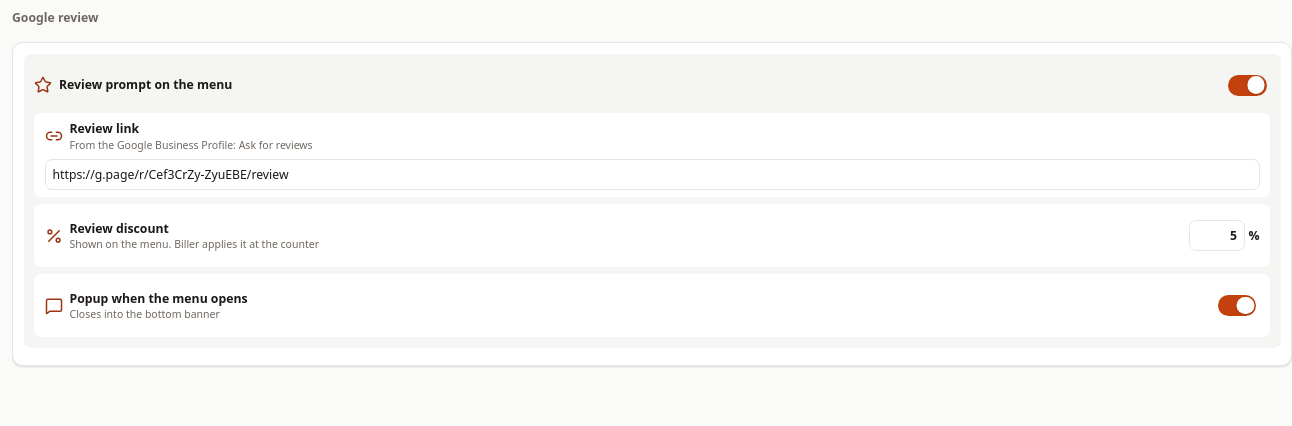
the Google review section › keeps only the banner when the popup is switched off
Click the switch with test id "review-ask-popup-switch". click: {"x": 1237, "y": 306}
box: [1214,286,1260,325]
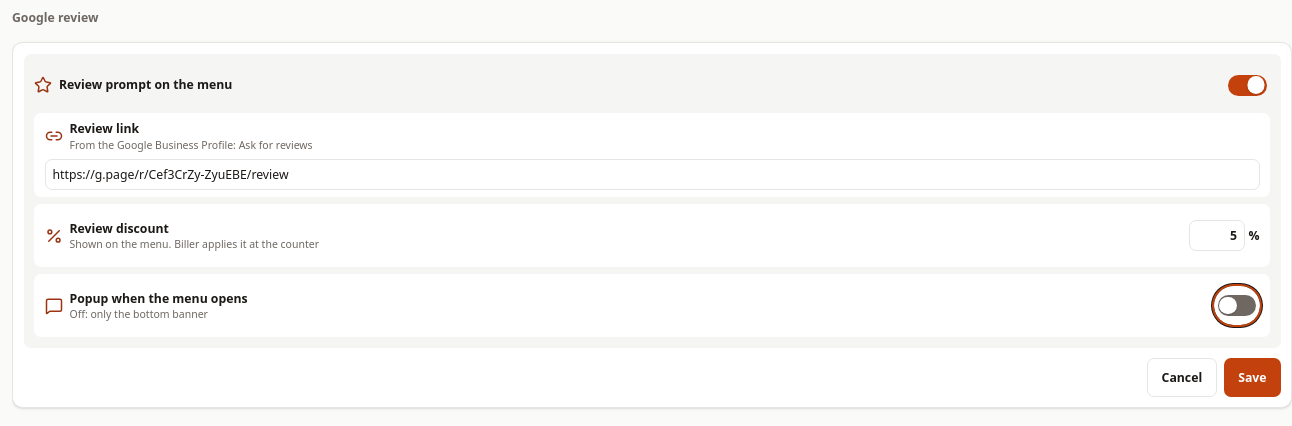
Result: the text "Off: only the bottom banner" is shown at [70,307,208,321]
Click the button "Save". click: {"x": 1252, "y": 377}
box: [1224,358,1280,396]
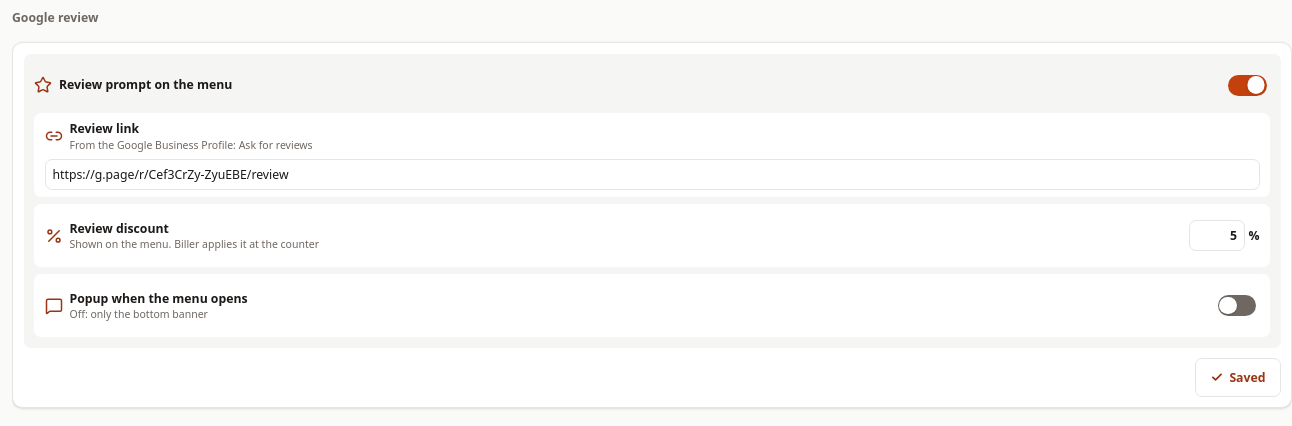
Result: the element with test id "review-ask-saved" is shown at [1195,358,1280,396]
